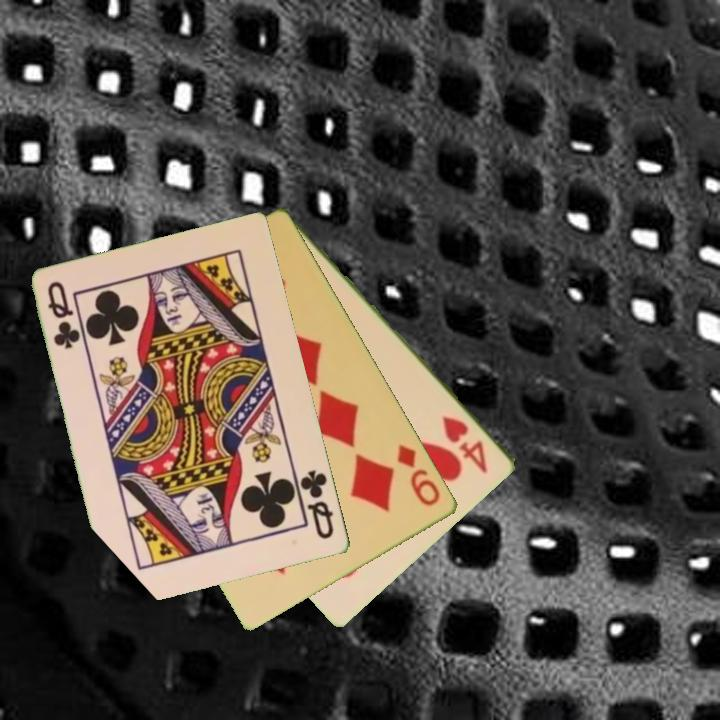4h: (439, 412, 492, 477)
9d: (394, 440, 444, 510)
Qc: (292, 466, 338, 542), (44, 278, 82, 353)
